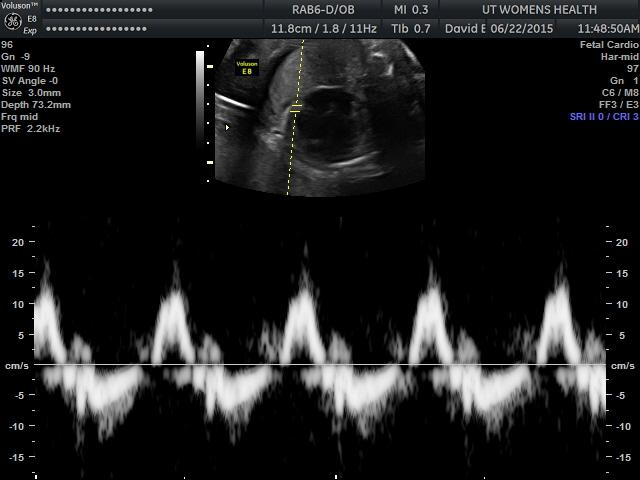Ultrasound-Waves: (37, 227, 604, 465)
